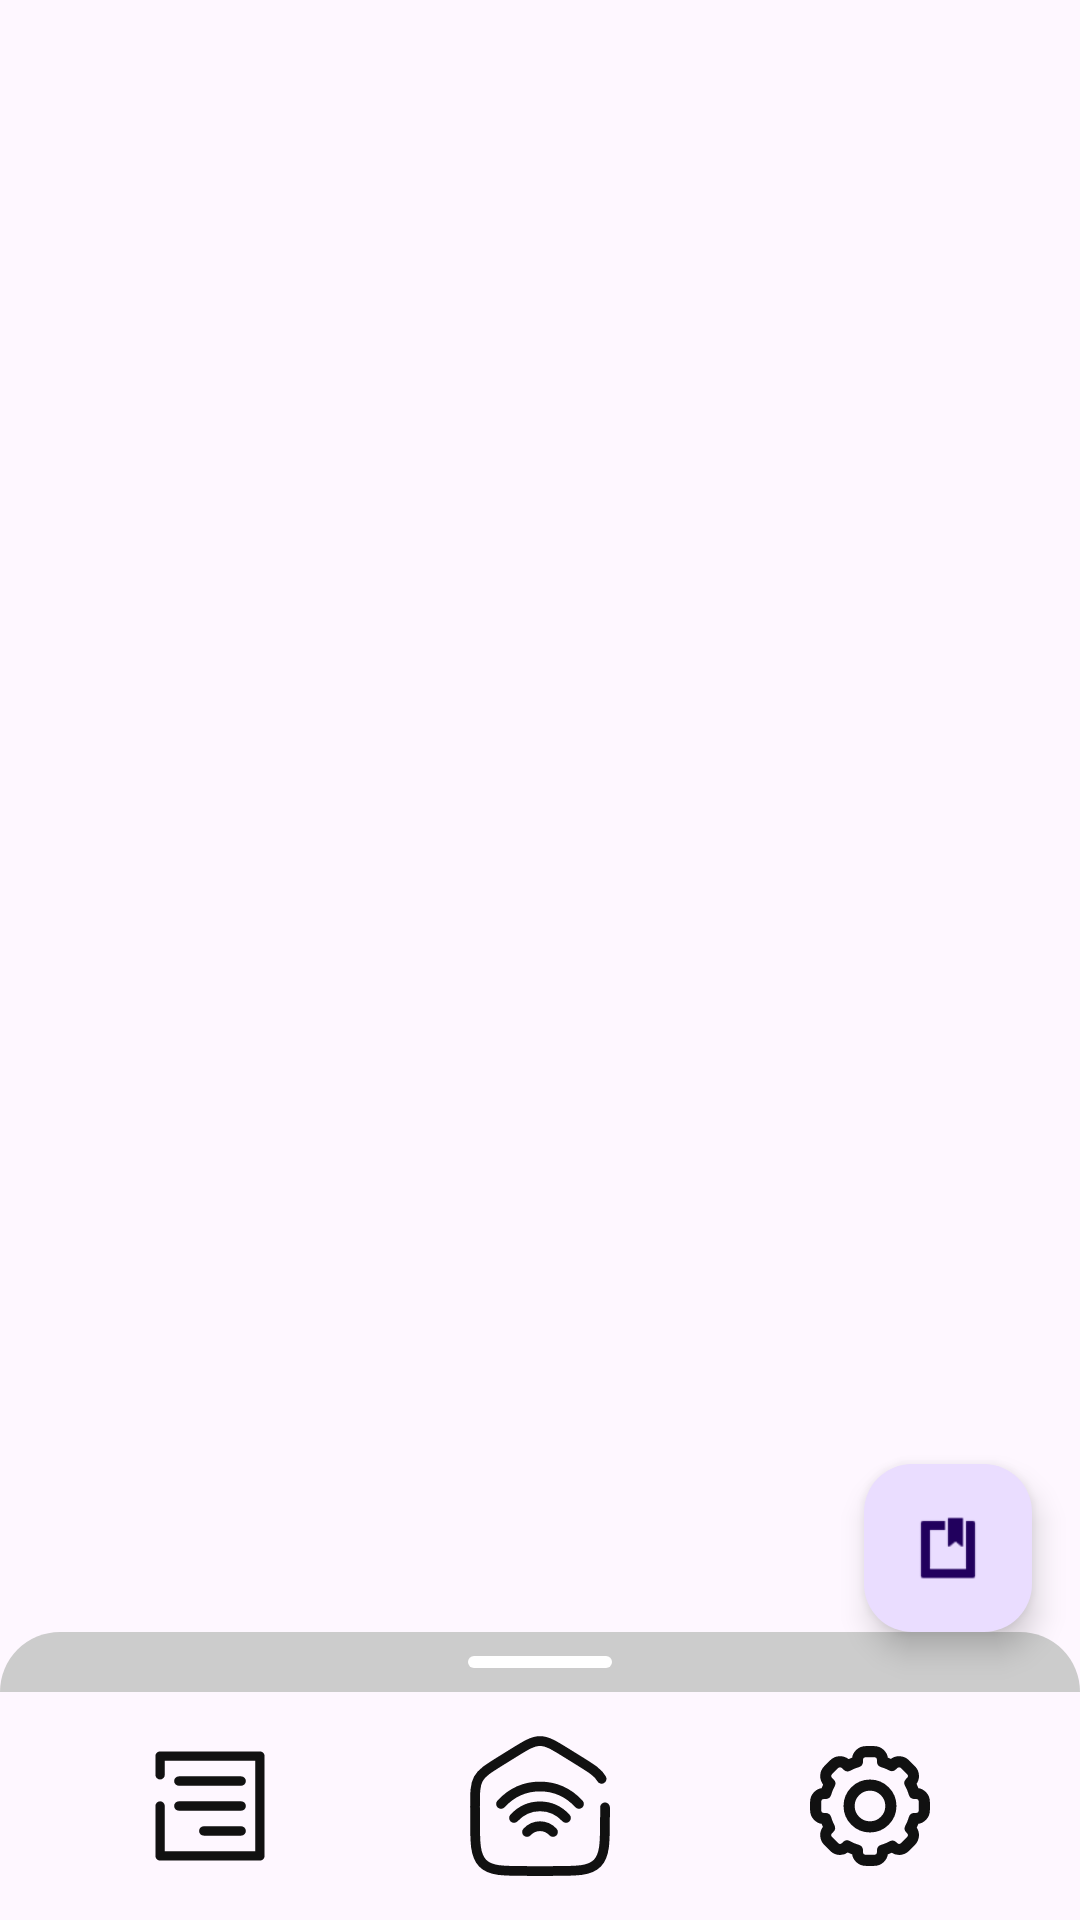

Named icons in this screenshot (1080×1920) and their centers, [x,y]:
config: [870,1806]
home: [540,1806]
list: [210,1806]
